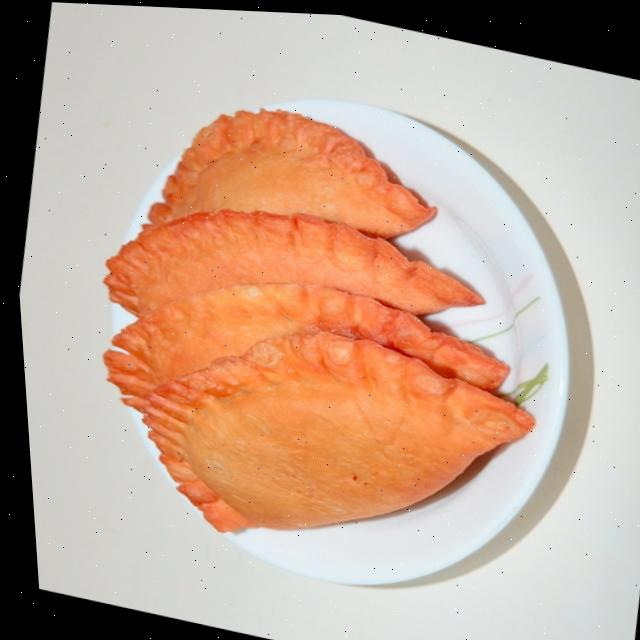炸货点心: (5, 33, 607, 625)
